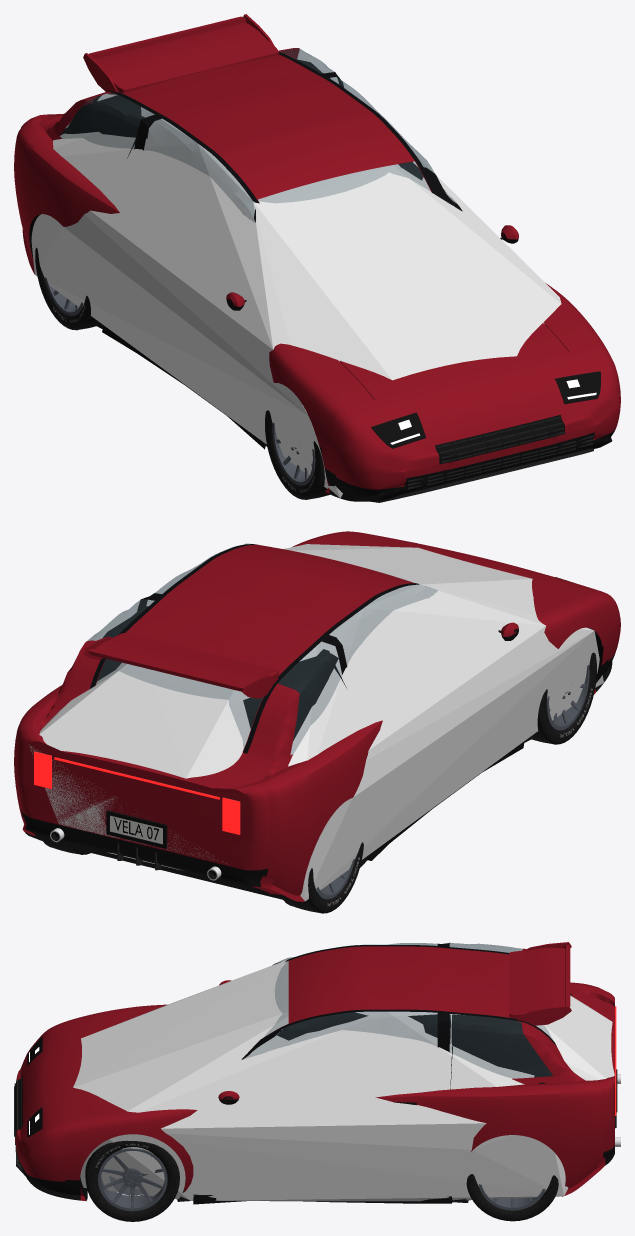
Rendered from noctra_vela_lod0.glb.
3 renders of one model, top to bottom at view 1: azimuth 30°, elevation 25°; view 2: azimuth 150°, elevation 25°; view 3: azimuth 270°, elevation 25°, orthographic. The views are drawn at different scales.
Parts seen in each view (by area): view 1: col_body, body, trim, glass, interior, wheel_FR, wheel_RR; view 2: col_body, body, glass, trim, interior, wheel_FR, lights_rear, wheel_RR, plate_rear, underbody; view 3: col_body, body, glass, trim, interior, wheel_FL, wheel_RL.
Boxes of the visible parts, box(x1,y1,x2,y2) form: col_body: box(31, 95, 561, 498); body: box(14, 48, 620, 501); trim: box(83, 14, 600, 502); glass: box(60, 48, 456, 222); interior: box(61, 59, 423, 180); wheel_FR: box(265, 410, 329, 499); wheel_RR: box(35, 247, 96, 330); col_body: box(29, 544, 603, 901); body: box(14, 531, 620, 901); glass: box(87, 543, 437, 754); trim: box(83, 577, 568, 870); interior: box(97, 606, 347, 740); wheel_FR: box(532, 652, 596, 744); lights_rear: box(34, 751, 240, 834); wheel_RR: box(283, 842, 363, 913); plate_rear: box(106, 810, 167, 848); underbody: box(25, 627, 603, 901); col_body: box(73, 960, 614, 1201); body: box(14, 945, 614, 1202); glass: box(244, 942, 552, 1078); trim: box(14, 942, 616, 1204); interior: box(277, 1012, 552, 1089); wheel_FL: box(85, 1140, 179, 1221); wheel_RL: box(466, 1174, 558, 1221).
Bounding box in the file's own units: 1.85 × 1.43 × 4.07.
14 materials, 3 textured.
